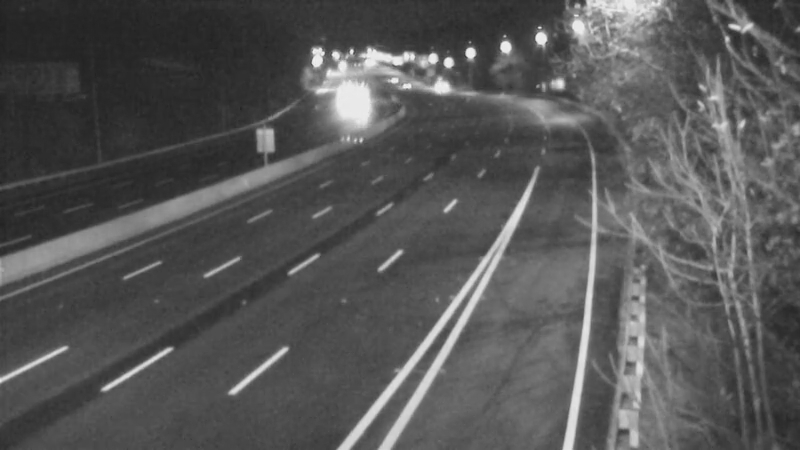vehicle: (378, 59, 428, 109), (412, 63, 462, 113), (326, 81, 376, 131)
